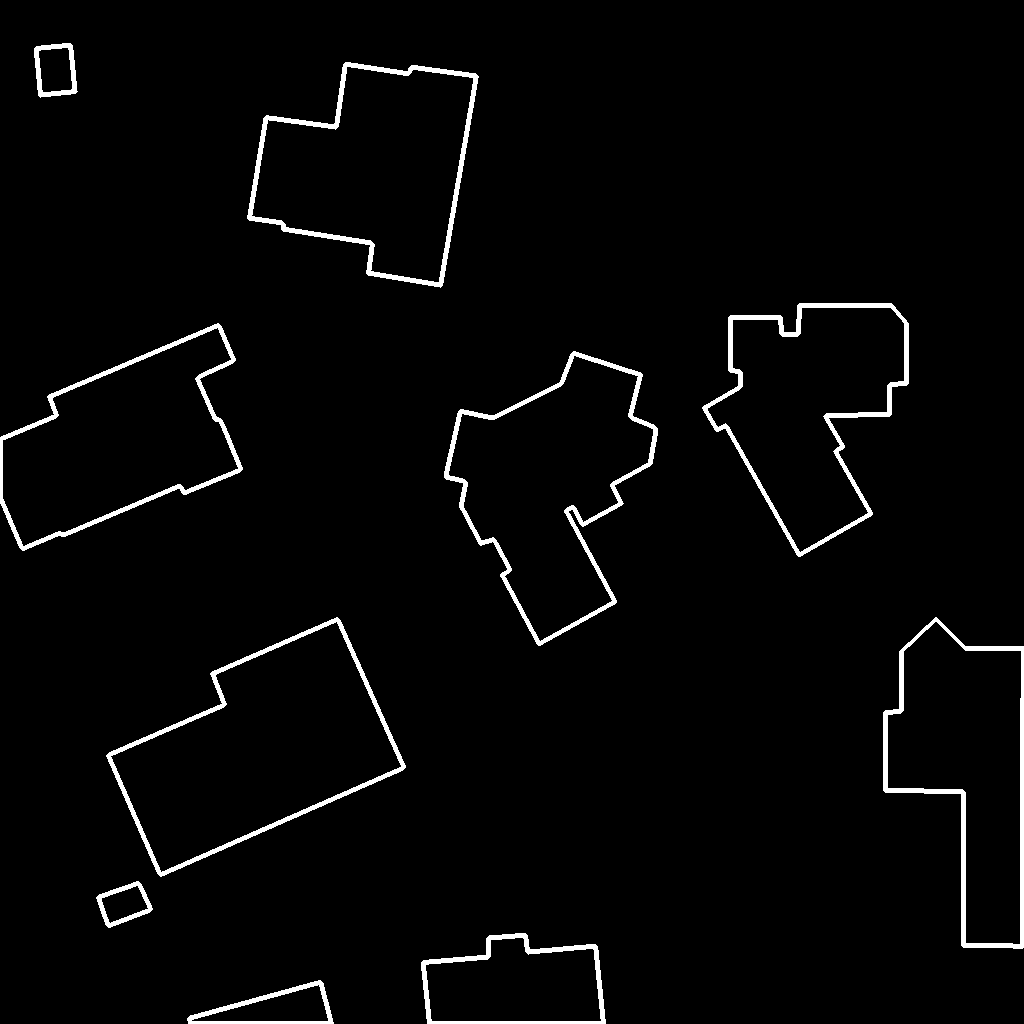building: (108, 619, 405, 876), (446, 353, 657, 645), (0, 325, 242, 550), (704, 305, 907, 556), (249, 64, 478, 286), (885, 619, 1024, 947), (423, 935, 605, 1024), (189, 982, 333, 1024), (98, 883, 152, 927), (36, 45, 76, 96)
